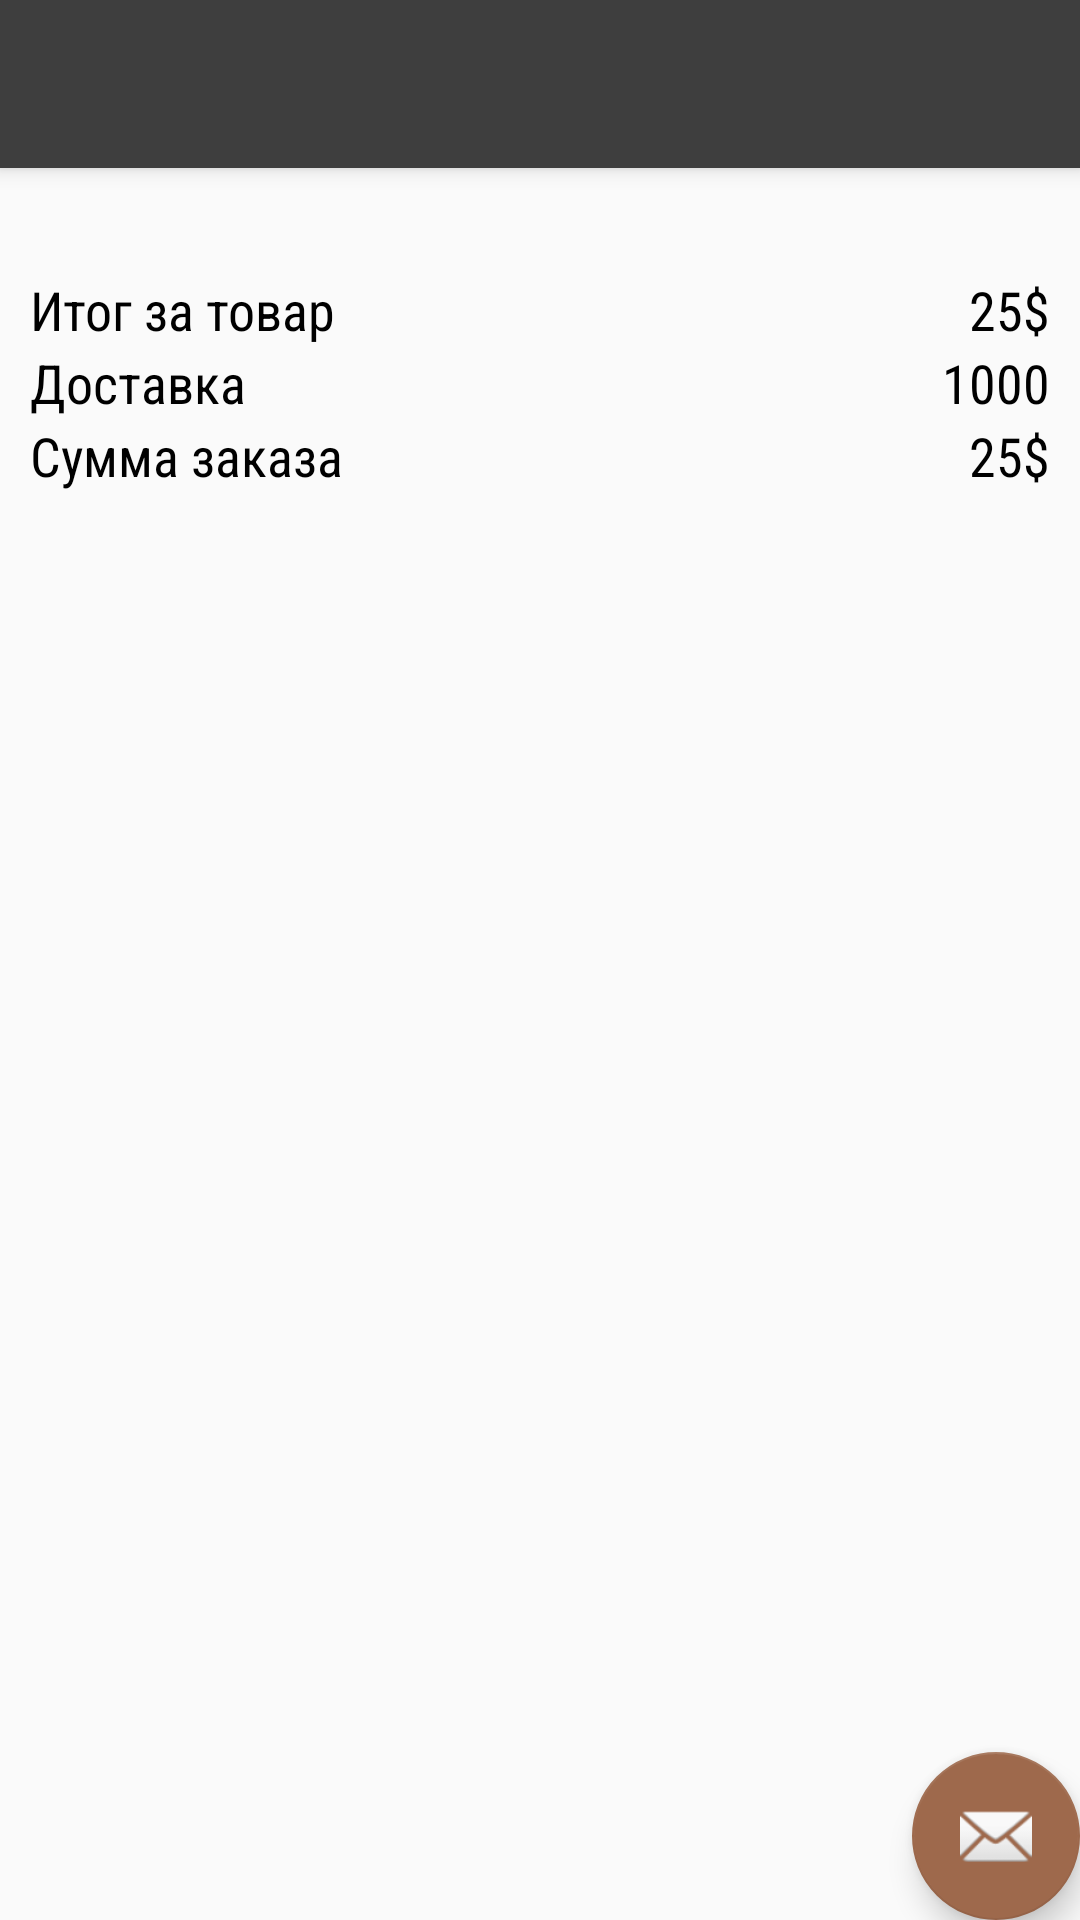

Icon click points for this 1080*1920 phone screenshot, format (x,y):
email: (996,1836)
